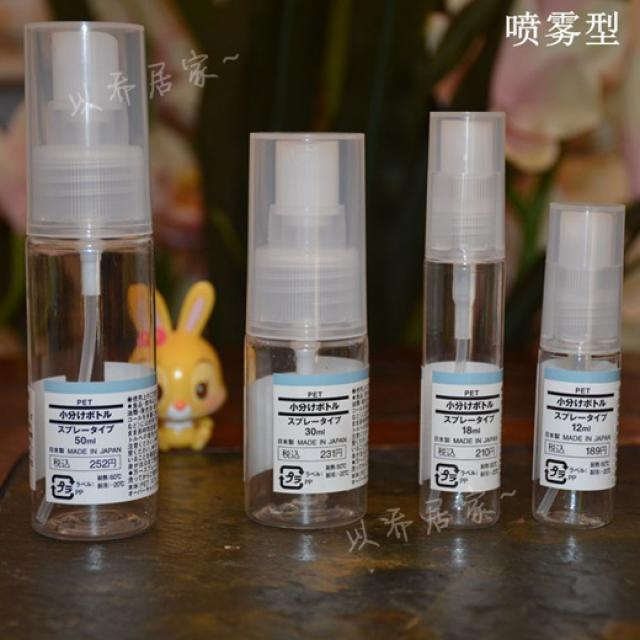plastic: (22, 21, 164, 545), (246, 133, 370, 528), (416, 108, 505, 528), (534, 201, 622, 535)
